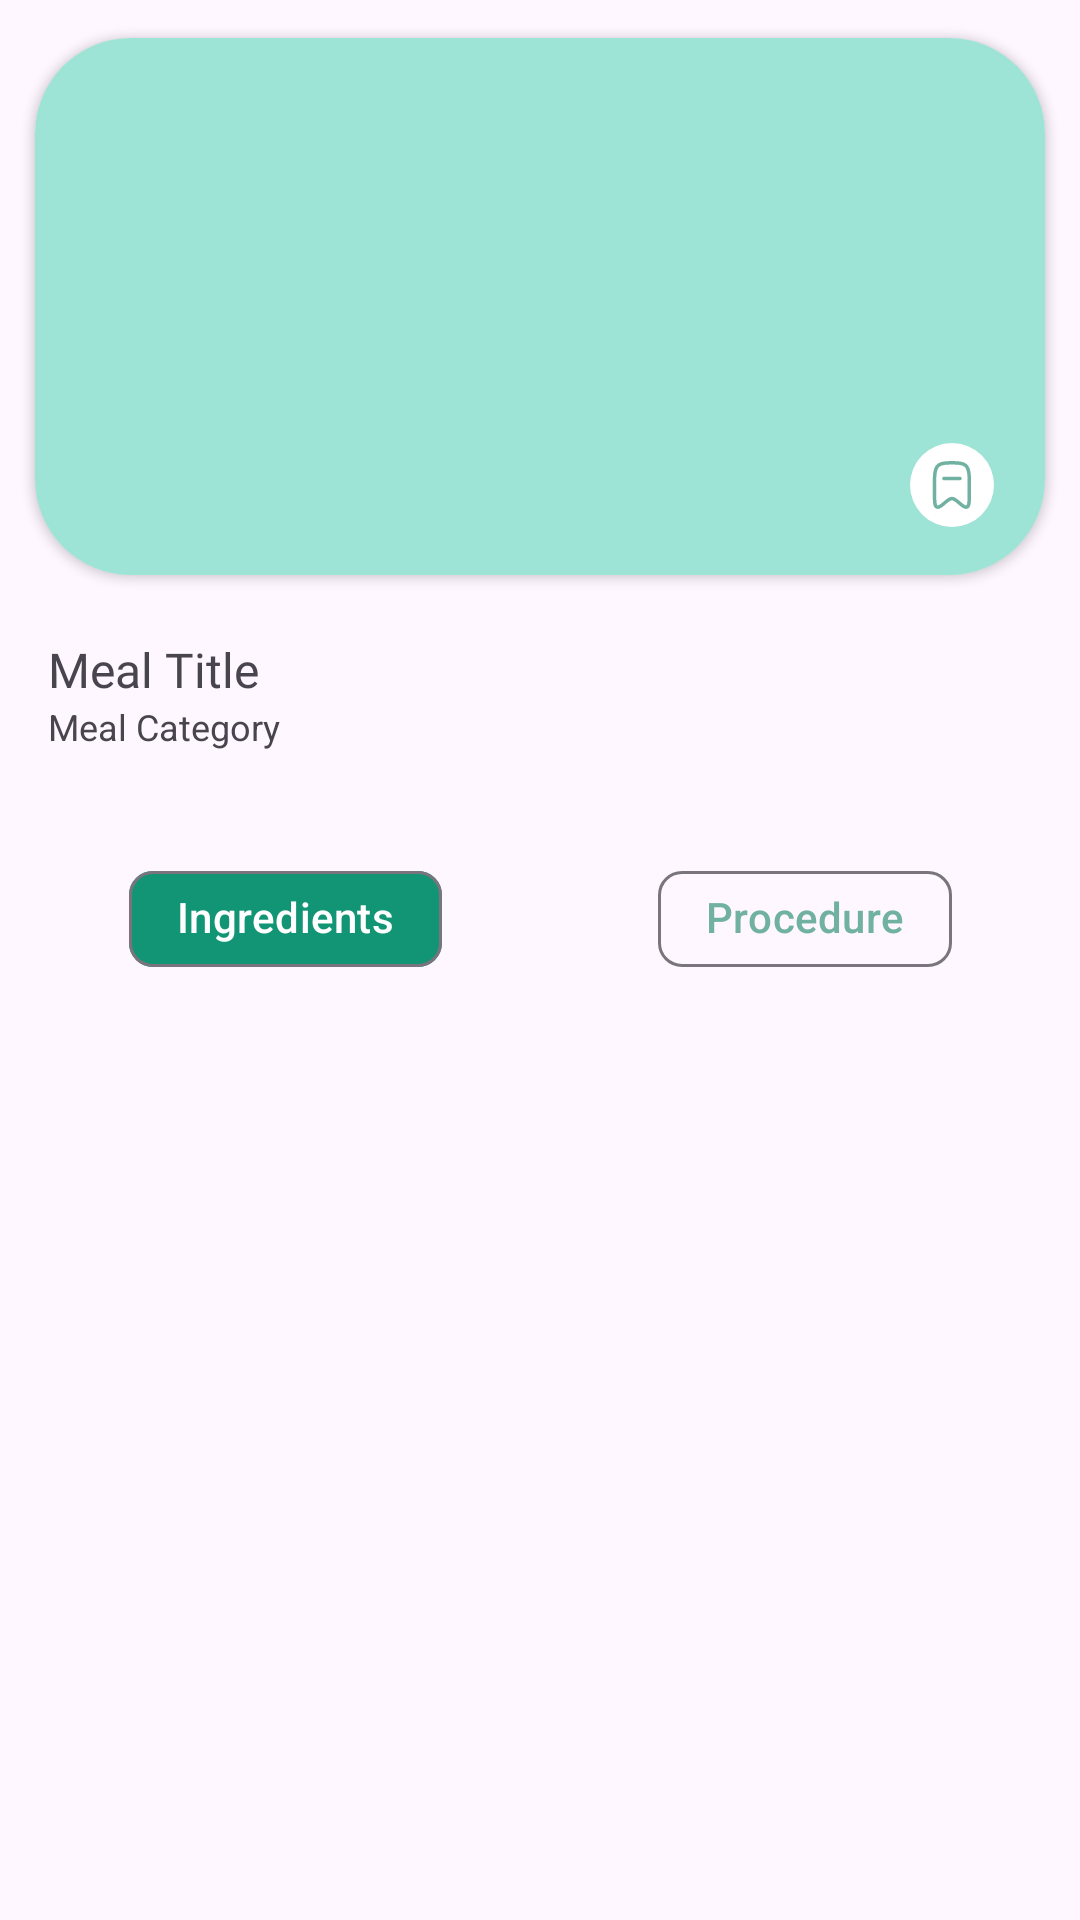

Icon click points for this 1080px×1920px phone screenshot, format [x,y]:
add to fav: [952,485]
